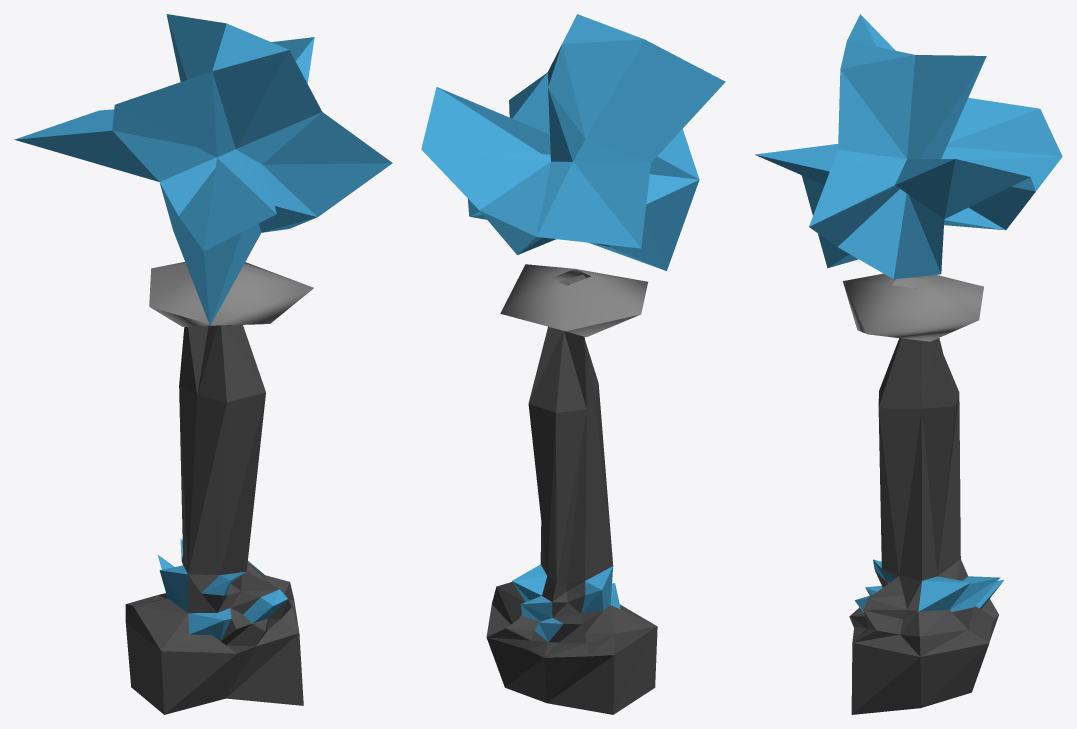
File: stm_item_LevelIndicator.fbx
3 renders of one model, left to right at view 1: azimuth 30°, elevation 25°; view 2: azimuth 150°, elevation 25°; view 3: azimuth 270°, elevation 25°, orthographic. The views are drawn at different scales.
Visible parts, largest first — view 1: Platonic, Cylinder_1, Sphere; view 2: Platonic, Cylinder_1, Sphere; view 3: Platonic, Cylinder_1, Sphere.
Boxes of the visible parts, x1=… form: Platonic: x1=14, y1=14, x2=392, y2=325; Cylinder_1: x1=125, y1=325, x2=303, y2=714; Sphere: x1=149, y1=262, x2=313, y2=326; Platonic: x1=421, y1=14, x2=725, y2=270; Cylinder_1: x1=486, y1=283, x2=657, y2=714; Sphere: x1=500, y1=264, x2=647, y2=337; Platonic: x1=755, y1=14, x2=1062, y2=279; Cylinder_1: x1=849, y1=338, x2=1004, y2=714; Sphere: x1=843, y1=273, x2=983, y2=341.
Bounding box in the file's own units: 423 × 1049 × 458.
